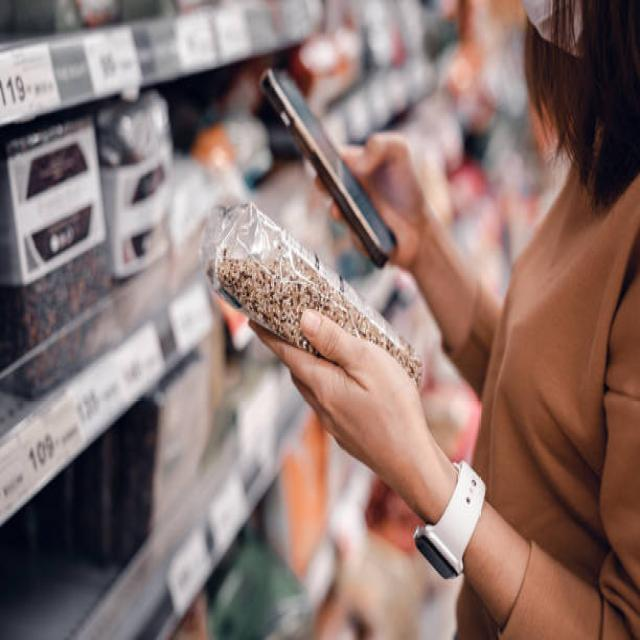article: (201, 202, 420, 384)
hands: (251, 309, 453, 518), (343, 132, 474, 336)
